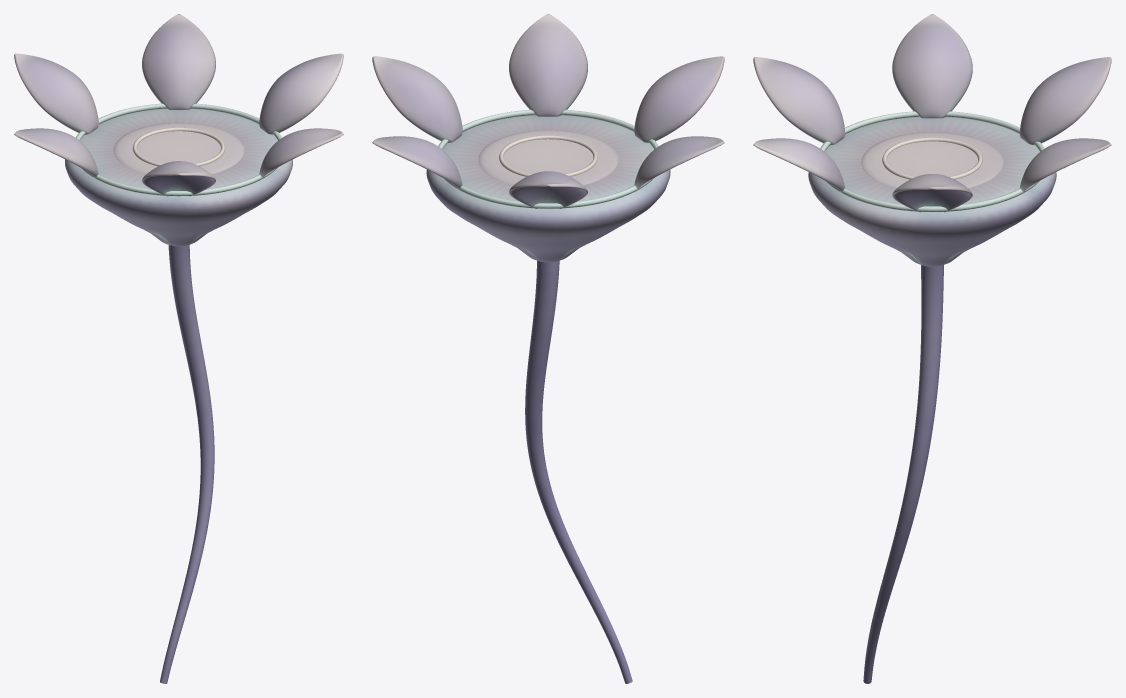
File: petal_lift.glb
The picture shows the model from 3 angles, left to right: view 1: azimuth 30°, elevation 25°; view 2: azimuth 150°, elevation 25°; view 3: azimuth 270°, elevation 25°; orthographic projection. The views are drawn at different scales.
Visible parts, largest first — view 1: Lift_Base, Lift_Stalk, Lift_Petal_1, Lift_Core, Lift_Petal_0, Lift_Petal_2, Lift_Glow_Rim, Lift_Petal_4, Lift_Petal_3, Lift_Petal_5, Lift_Glow_Core; view 2: Lift_Base, Lift_Stalk, Lift_Petal_5, Lift_Core, Lift_Petal_0, Lift_Petal_4, Lift_Glow_Rim, Lift_Petal_2, Lift_Petal_1, Lift_Petal_3, Lift_Glow_Core; view 3: Lift_Base, Lift_Stalk, Lift_Petal_3, Lift_Core, Lift_Petal_2, Lift_Petal_4, Lift_Glow_Rim, Lift_Petal_0, Lift_Petal_1, Lift_Petal_5, Lift_Glow_Core.
Boxes of the visible parts, <box> form: Lift_Base: <box>65,108,292,246</box>; Lift_Stalk: <box>160,244,214,683</box>; Lift_Petal_1: <box>142,14,215,109</box>; Lift_Core: <box>113,122,244,174</box>; Lift_Petal_0: <box>259,53,343,134</box>; Lift_Petal_2: <box>14,53,98,134</box>; Lift_Glow_Rim: <box>76,103,281,196</box>; Lift_Petal_4: <box>142,161,215,196</box>; Lift_Petal_3: <box>14,128,98,177</box>; Lift_Petal_5: <box>259,128,343,177</box>; Lift_Glow_Core: <box>132,127,225,166</box>; Lift_Base: <box>426,115,670,262</box>; Lift_Stalk: <box>525,260,632,683</box>; Lift_Petal_5: <box>509,14,587,116</box>; Lift_Core: <box>478,130,618,185</box>; Lift_Petal_0: <box>372,56,462,142</box>; Lift_Petal_4: <box>634,56,724,142</box>; Lift_Glow_Rim: <box>438,109,658,208</box>; Lift_Petal_2: <box>509,171,587,208</box>; Lift_Petal_1: <box>372,136,462,189</box>; Lift_Petal_3: <box>634,136,724,189</box>; Lift_Glow_Core: <box>499,135,597,176</box>; Lift_Base: <box>808,116,1056,266</box>; Lift_Stalk: <box>863,265,943,683</box>; Lift_Petal_3: <box>892,14,972,118</box>; Lift_Core: <box>861,132,1003,187</box>; Lift_Petal_2: <box>1019,57,1111,145</box>; Lift_Petal_4: <box>753,57,844,145</box>; Lift_Glow_Rim: <box>820,111,1044,211</box>; Lift_Petal_0: <box>892,174,972,212</box>; Lift_Petal_1: <box>1020,138,1111,192</box>; Lift_Petal_5: <box>753,138,844,192</box>; Lift_Glow_Core: <box>882,137,982,179</box>.
Size of the model in its own units: 6.19 by 10.03 by 5.38.
